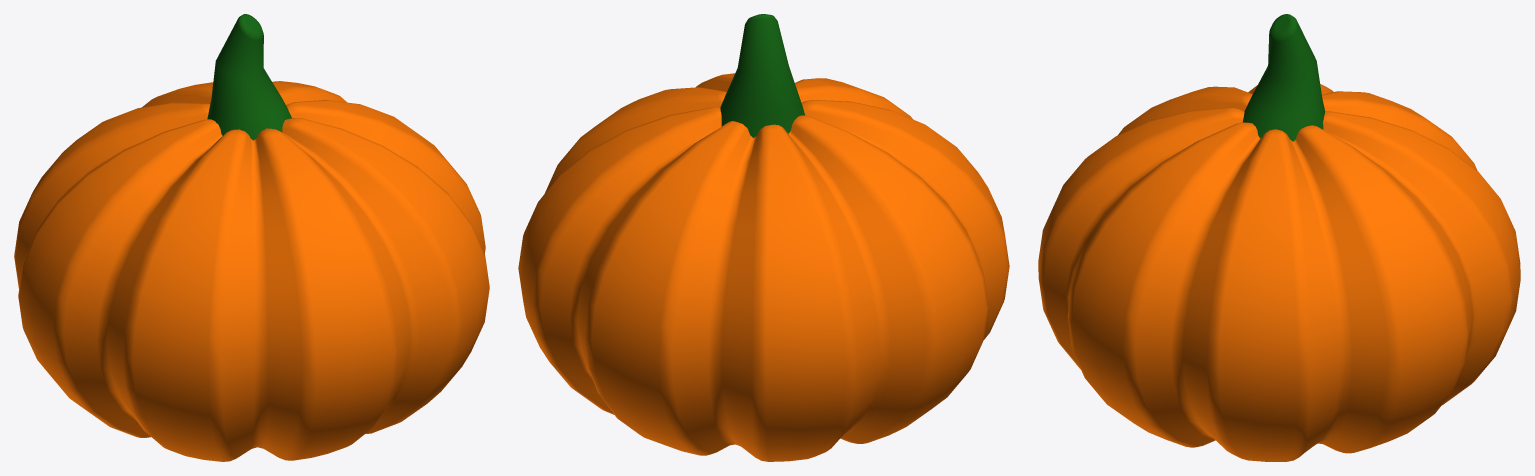
The model's file is pumpkin.glb.
3 views of the same model, side by side, from view 1: azimuth 30°, elevation 25°; view 2: azimuth 150°, elevation 25°; view 3: azimuth 270°, elevation 25° (orthographic).
Visible parts, largest first — view 1: pumpkin; view 2: pumpkin; view 3: pumpkin.
Part boxes in pixels (x1,y1,x2,y2): pumpkin: (14,14,489,461); pumpkin: (518,14,1009,461); pumpkin: (1038,14,1520,461).
Bounding box in the file's own units: 2.6 × 2.34 × 2.6.
